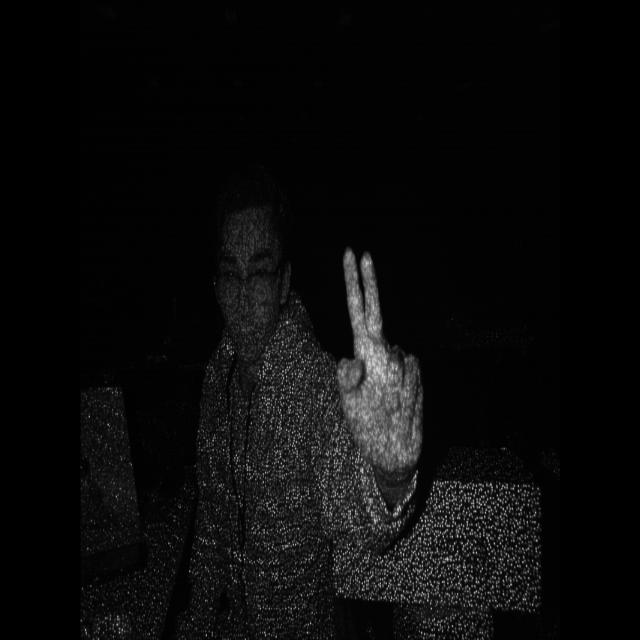U: (328, 231, 437, 514)
